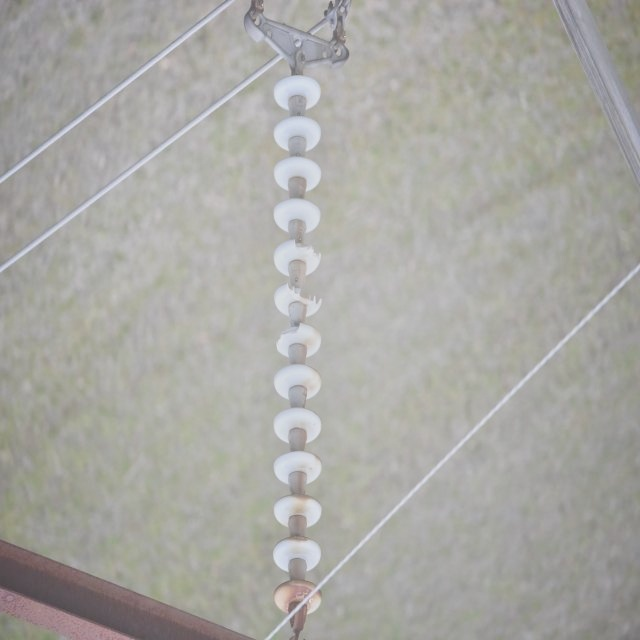broken: (284, 278, 323, 311), (274, 317, 303, 353), (289, 239, 322, 264)
insulator: (271, 76, 326, 613)
